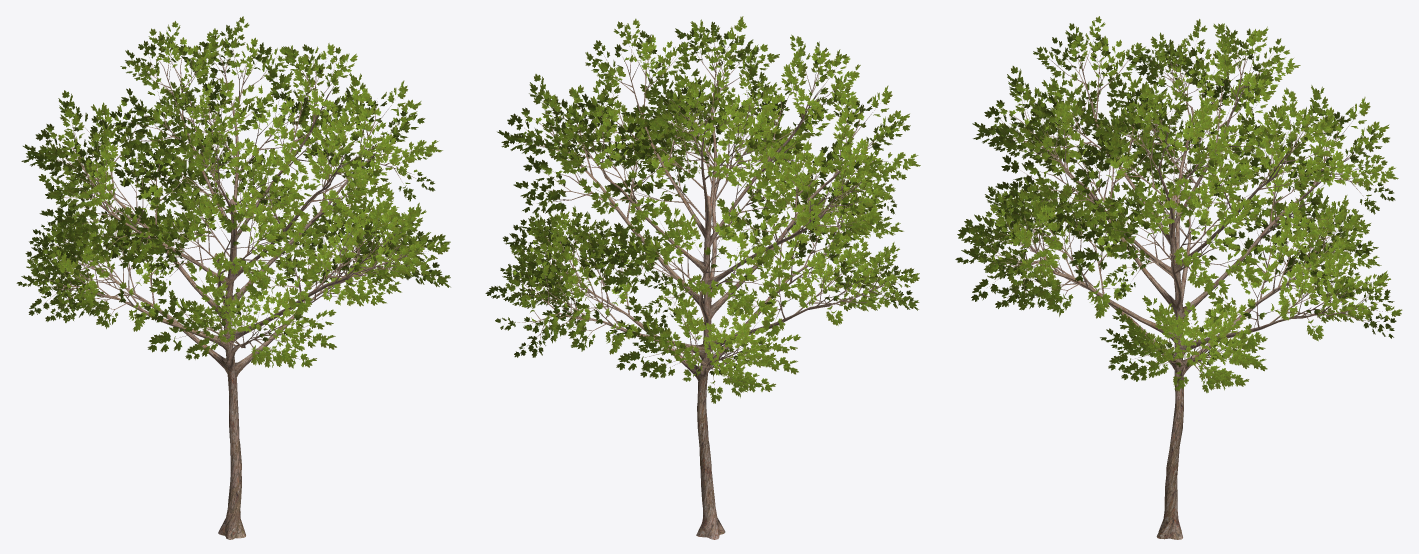
The model's file is maple13.obj.
3 renders of one model, left to right at view 1: azimuth 30°, elevation 25°; view 2: azimuth 150°, elevation 25°; view 3: azimuth 270°, elevation 25°, orthographic. The views are drawn at different scales.
Parts seen in each view (by area): view 1: leaf maple, bark02; view 2: leaf maple, bark02; view 3: leaf maple, bark02.
Part boxes in pixels (x1,y1,x2,y2): leaf maple: (16,16,450,368); bark02: (30,48,428,539); leaf maple: (485,16,920,403); bark02: (509,42,902,539); leaf maple: (955,16,1402,392); bark02: (971,39,1385,539).
Bounding box in the file's own units: 810 × 937 × 766.
2 materials, 2 textured.
